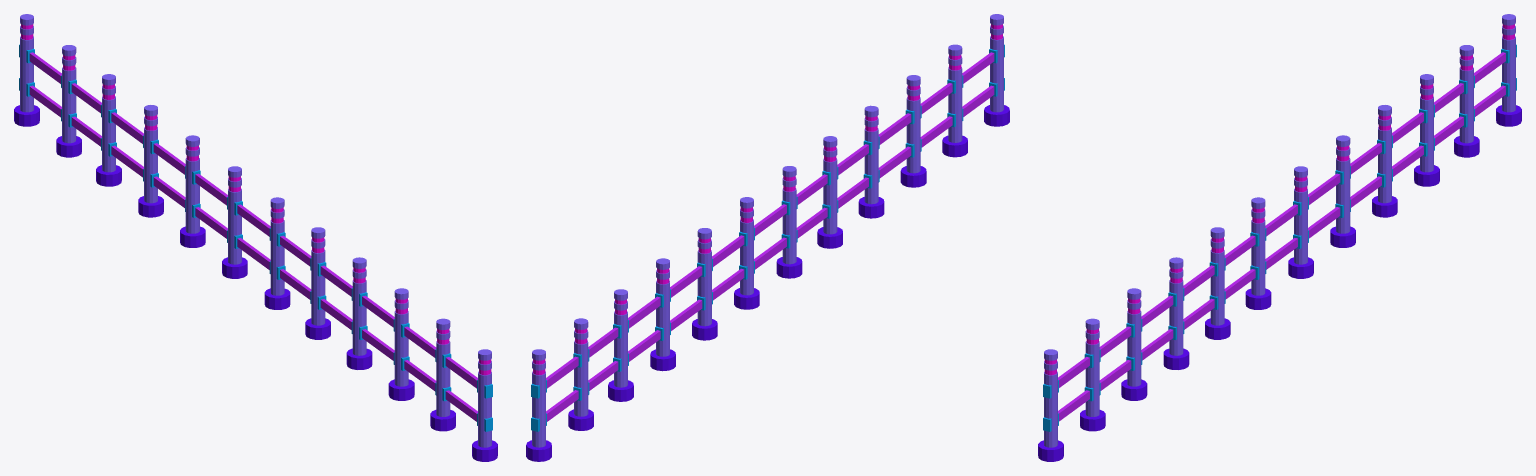
The model's file is futuristic_road_barier_colored1231231231.fbx.
3 renders of one model, left to right at view 1: azimuth 30°, elevation 25°; view 2: azimuth 150°, elevation 25°; view 3: azimuth 330°, elevation 25°, orthographic.
Visible parts, largest first — view 1: Cylinder.004; view 2: Cylinder.004; view 3: Cylinder.004.
Boxes of the visible parts, box(x1,y1,x2,y2) form: Cylinder.004: box(14, 14, 497, 461); Cylinder.004: box(526, 14, 1009, 461); Cylinder.004: box(1038, 14, 1521, 461).
Bounding box in the file's own units: 62.27 × 278 × 2273.
